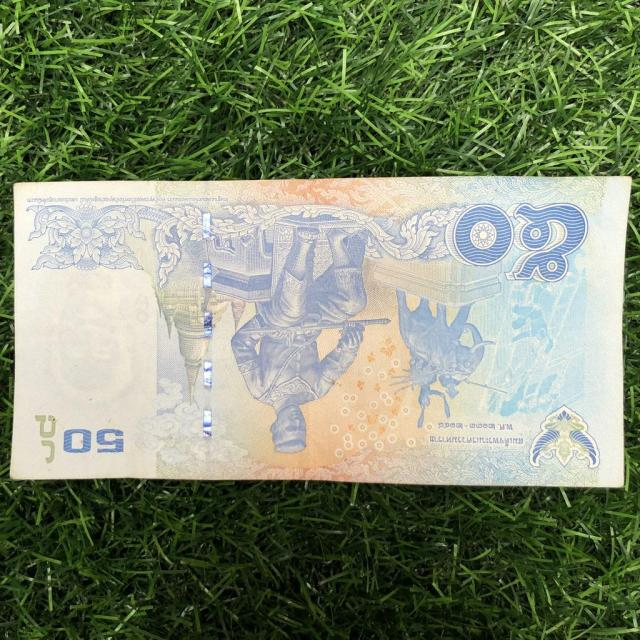THAI50: (8, 175, 633, 492)
